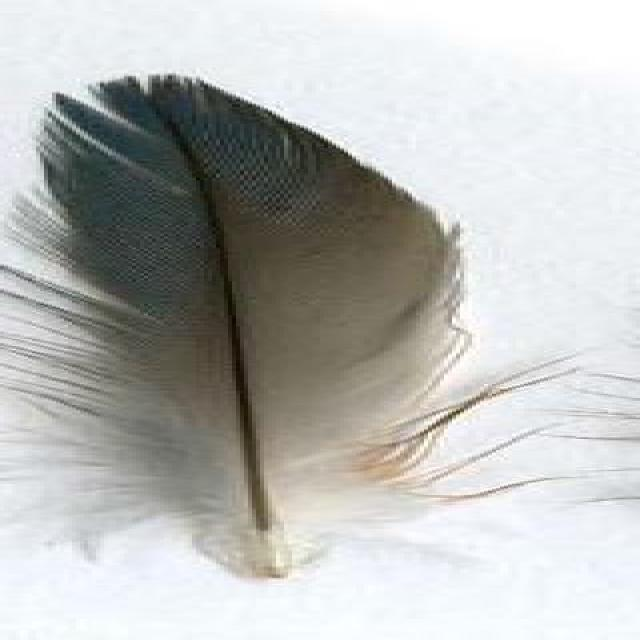feather: (0, 74, 584, 581)
